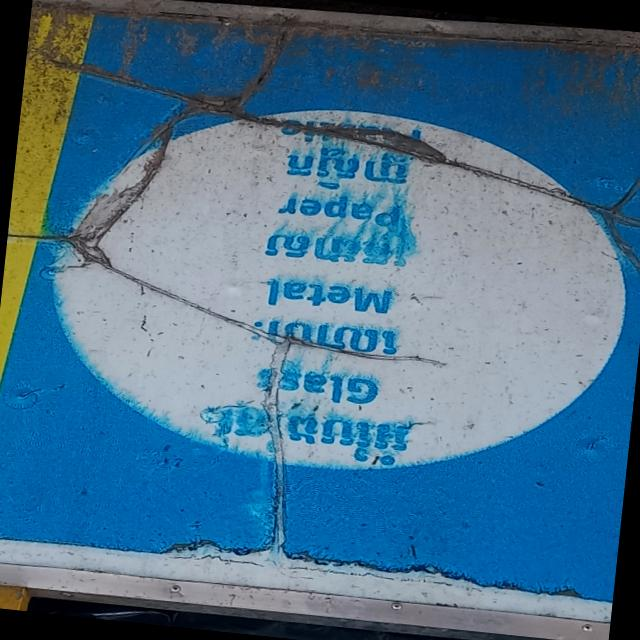Yolov11_80vkh: (185, 395, 422, 471), (236, 315, 409, 368), (271, 142, 418, 201), (248, 224, 410, 275)
